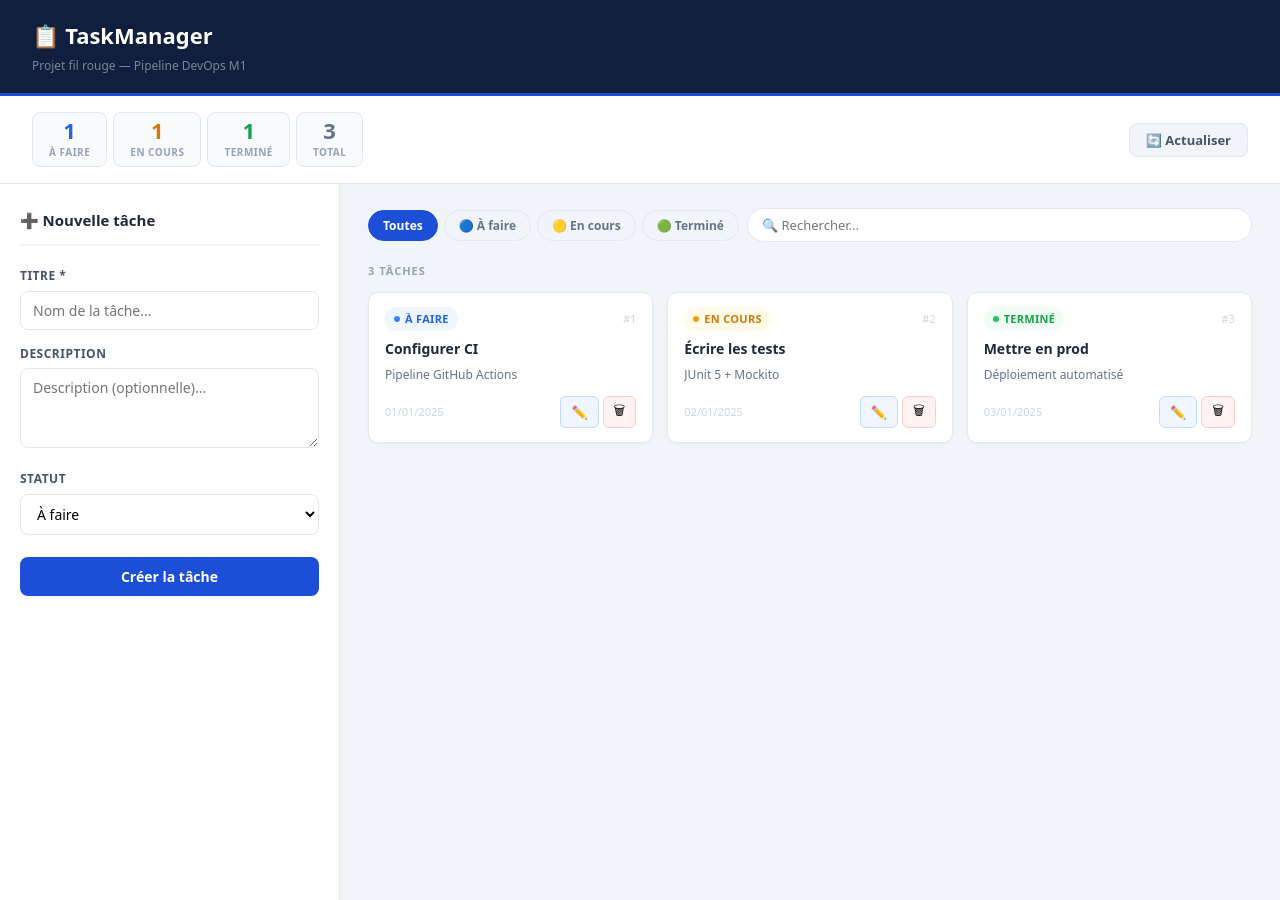
Test: App — Tests d'intégration (avec MSW) › filtre localement par recherche textuelle (titre)
The image size is (1280, 900).
Expected: the heading "Configurer CI" is shown, [385,339,478,358]
Type "CI" into the field with placeholder "🔍 Rechercher..." at (999, 225), box [747,208,1252,242]
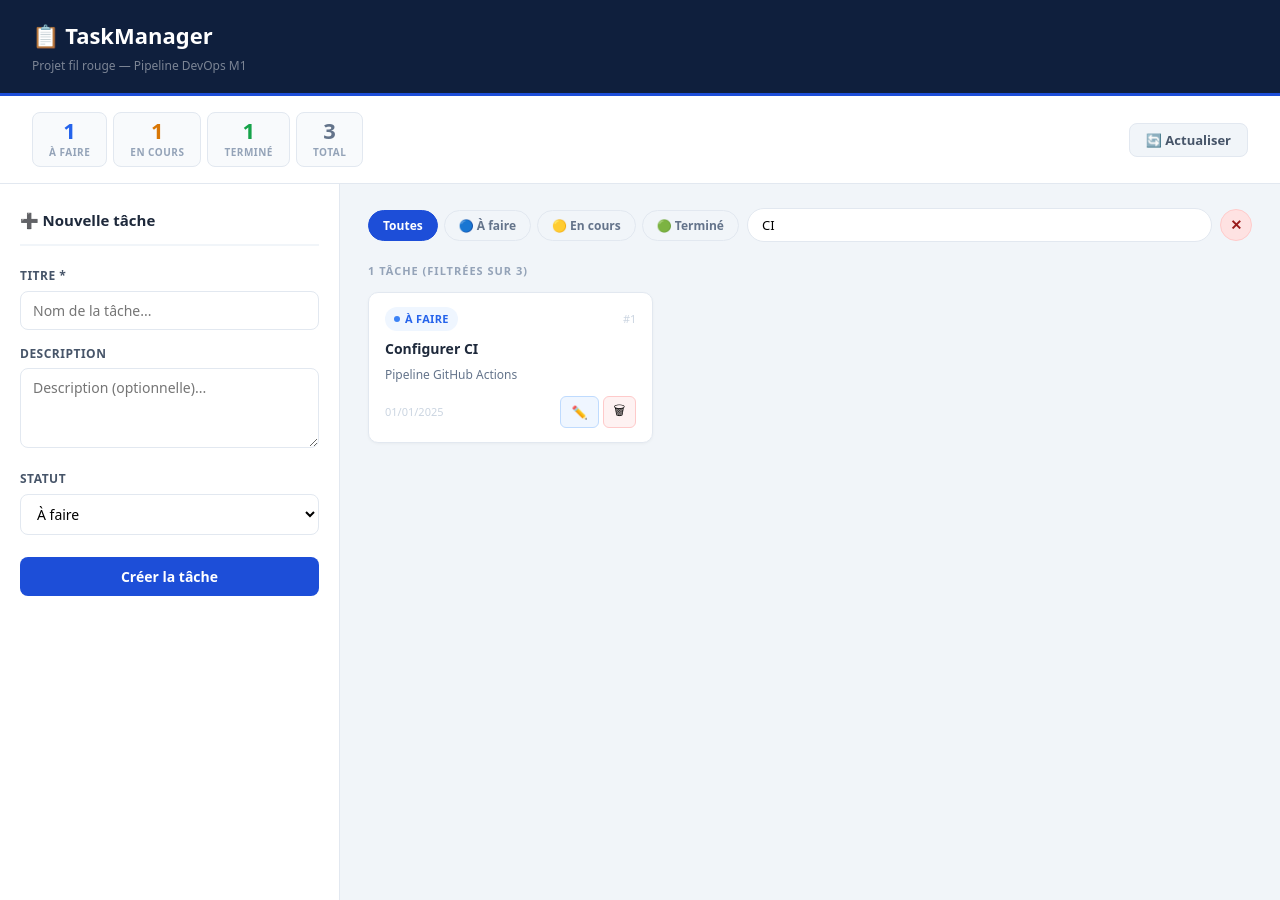
Expected: the heading "Configurer CI" is shown, [385,339,478,358]
Expected: the heading "Écrire les tests" is gone
Expected: the heading "Mettre en prod" is gone
